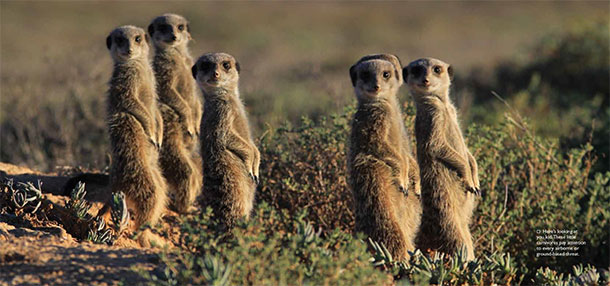meerkat: (333, 41, 419, 286), (190, 45, 279, 250), (100, 23, 184, 236)
